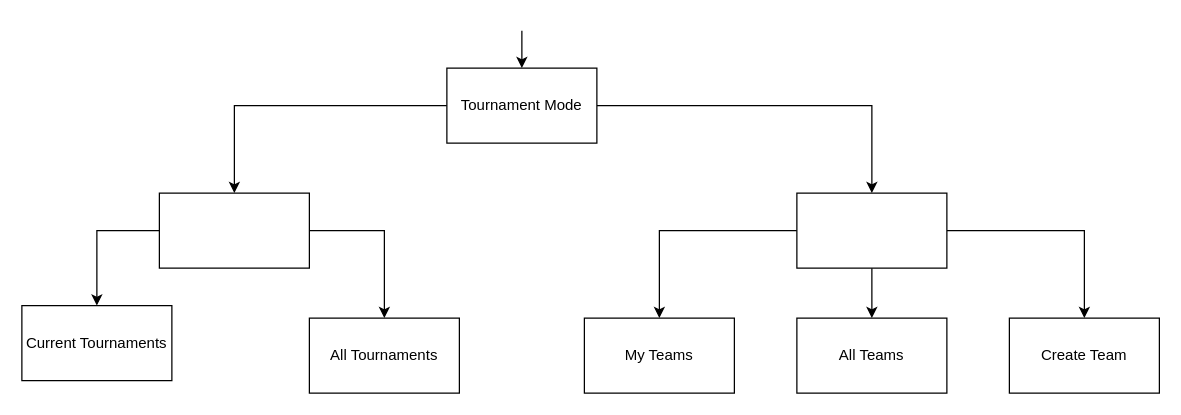
Image size: 1181x415. Some labels were removed from this diagram. Here are the shapes that lost their labels. From the top down, the centre of each, then its label:
(x=233, y=230): Tournaments
(x=871, y=230): Teams
